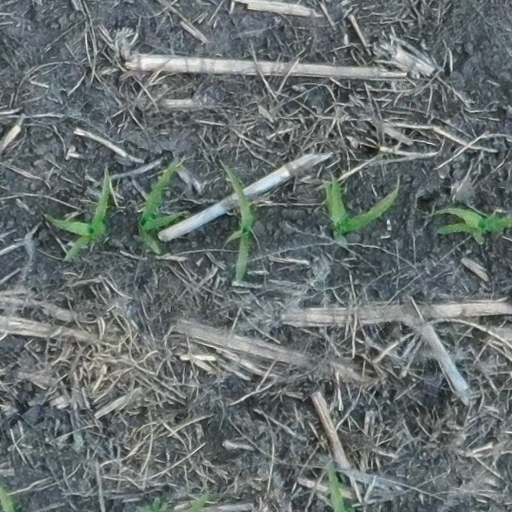planta: (42, 162, 112, 261), (323, 170, 399, 244), (139, 160, 186, 253), (219, 159, 252, 283)
